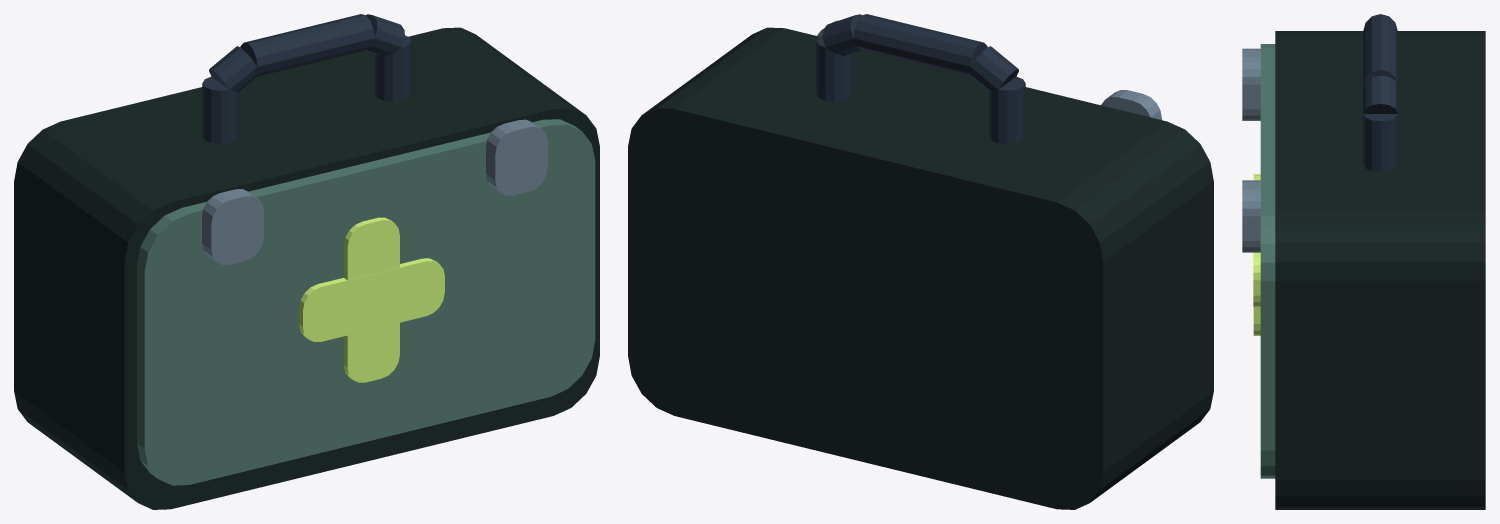
The model's file is firstaid.glb.
The picture shows the model from 3 angles, left to right: view 1: azimuth 30°, elevation 25°; view 2: azimuth 150°, elevation 25°; view 3: azimuth 270°, elevation 25°; orthographic projection. The views are drawn at different scales.
Visible parts, largest first — view 1: lid, case, cross horizontal, cross vertical, carry handle2, closure 0.46, closure -0.46, carry handle0, carry handle4, carry handle1, carry handle3; view 2: case, carry handle2, carry handle0, carry handle4, carry handle1, carry handle3, closure -0.46; view 3: case, lid, carry handle2, carry handle4, closure -0.46, closure 0.46, carry handle3, cross horizontal, cross vertical.
Part boxes in pixels (left/top/right/bottom): lid: left=137, top=119, right=595, bottom=485; case: left=14, top=27, right=599, bottom=509; cross horizontal: left=299, top=258, right=444, bottom=341; cross vertical: left=344, top=217, right=399, bottom=382; carry handle2: left=240, top=14, right=374, bottom=76; closure 0.46: left=486, top=119, right=547, bottom=195; closure -0.46: left=202, top=189, right=263, bottom=264; carry handle0: left=202, top=76, right=238, bottom=143; carry handle4: left=375, top=35, right=411, bottom=101; carry handle1: left=209, top=46, right=258, bottom=91; carry handle3: left=366, top=14, right=404, bottom=55; case: left=628, top=27, right=1213, bottom=509; carry handle2: left=853, top=14, right=987, bottom=76; carry handle0: left=989, top=76, right=1025, bottom=143; carry handle4: left=816, top=35, right=852, bottom=101; carry handle1: left=969, top=46, right=1018, bottom=91; carry handle3: left=823, top=14, right=861, bottom=55; closure -0.46: left=1101, top=90, right=1161, bottom=119; case: left=1275, top=31, right=1485, bottom=509; lid: left=1260, top=44, right=1275, bottom=478; carry handle2: left=1363, top=15, right=1397, bottom=84; carry handle4: left=1363, top=114, right=1397, bottom=171; closure -0.46: left=1242, top=48, right=1260, bottom=120; closure 0.46: left=1242, top=180, right=1260, bottom=252; carry handle3: left=1363, top=75, right=1397, bottom=113; cross horizontal: left=1253, top=252, right=1260, bottom=307; cross vertical: left=1253, top=174, right=1260, bottom=335.
Bounding box in the file's own units: 1.54 × 1.22 × 0.7175.
